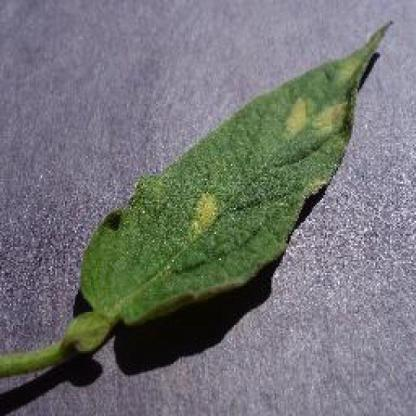Tomato_Leaf_Mold: (80, 20, 396, 324)
